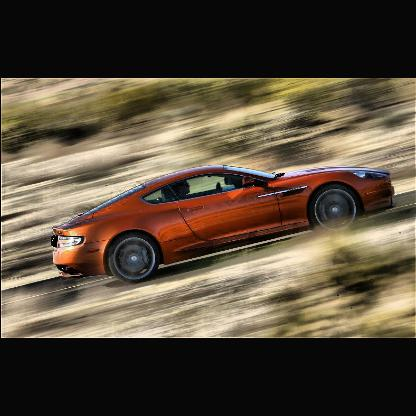Aston Martin Virage Coupe 2012: (47, 162, 395, 287)
